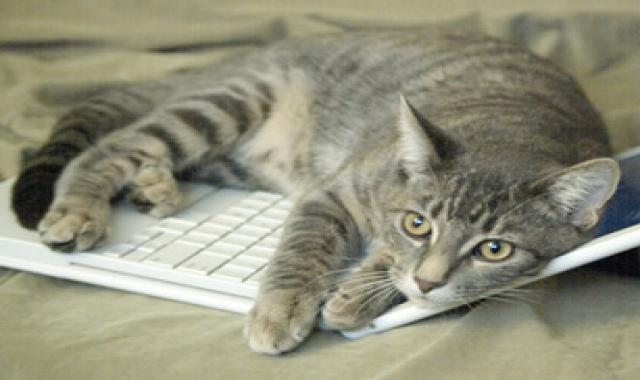cat: (4, 7, 632, 360)
